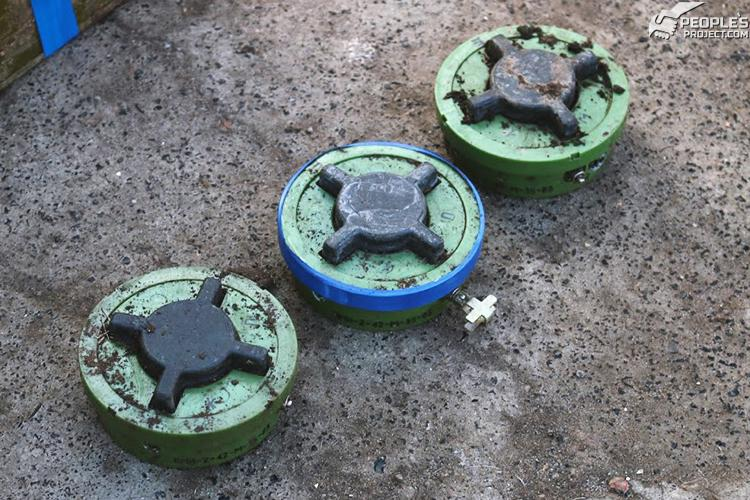pmn: (74, 263, 300, 474), (275, 139, 496, 335), (430, 21, 633, 203)
